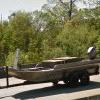Boat: (5, 49, 99, 91)
